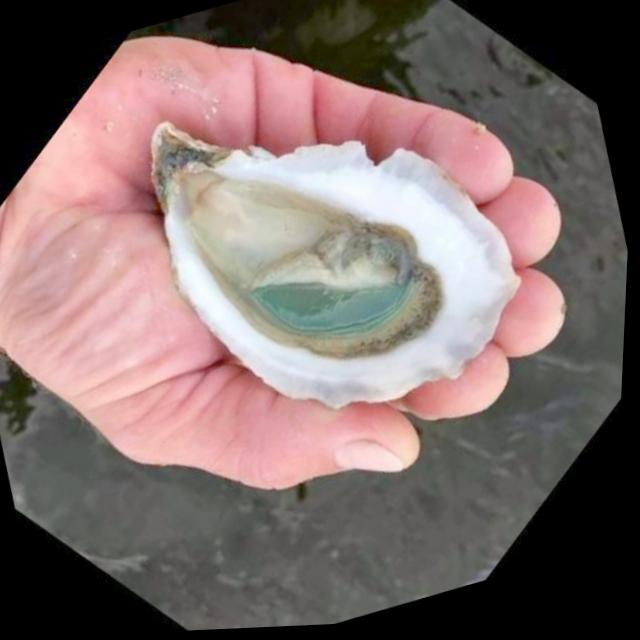Oyster-Open: (126, 27, 553, 456)
